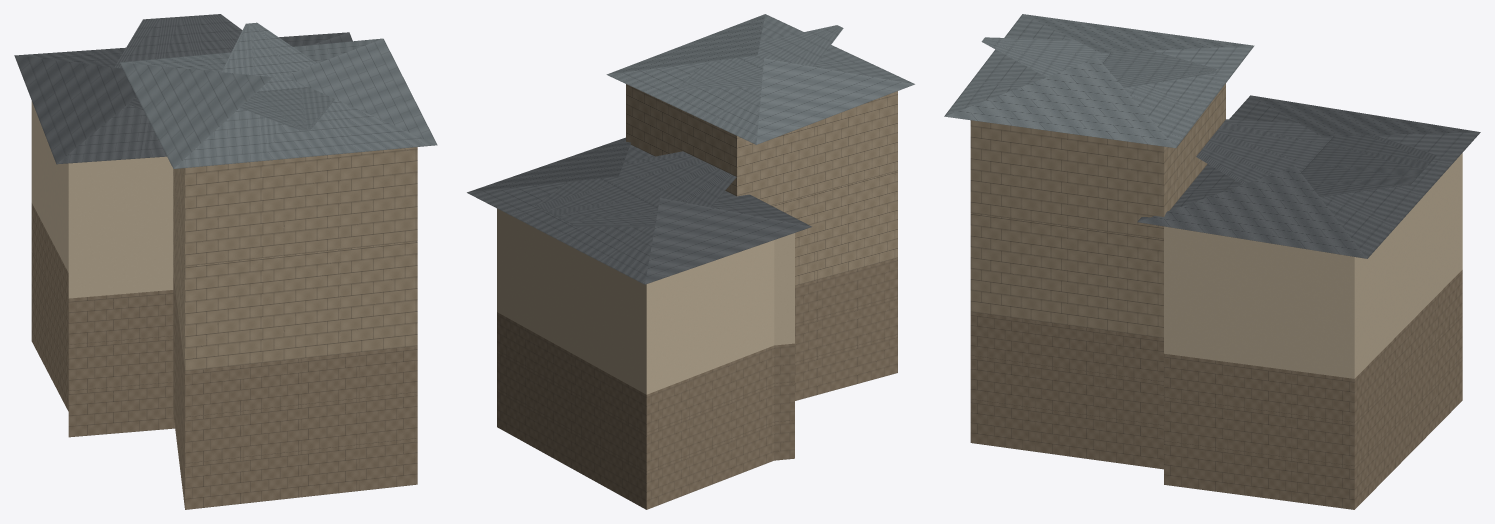
Rendered from bld_c41_33_290.gltf.
3 views of the same model, side by side, from view 1: azimuth 30°, elevation 25°; view 2: azimuth 150°, elevation 25°; view 3: azimuth 270°, elevation 25° (orthographic). The views are drawn at different scales.
Visible parts, largest first — view 1: bld_c41_33_290; view 2: bld_c41_33_290; view 3: bld_c41_33_290.
Part boxes in pixels (bbox=[...]): bld_c41_33_290: bbox=[14, 14, 437, 509]; bld_c41_33_290: bbox=[467, 14, 914, 509]; bld_c41_33_290: bbox=[944, 14, 1480, 509].
Size of the model in its own units: 13.79 by 14.4 by 18.93.
Materials: 5 (5 with a texture image).
